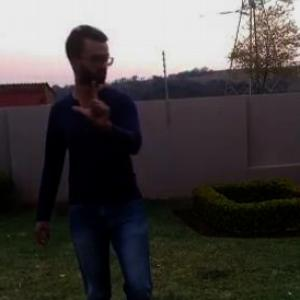land_hand: (72, 72, 114, 128)
